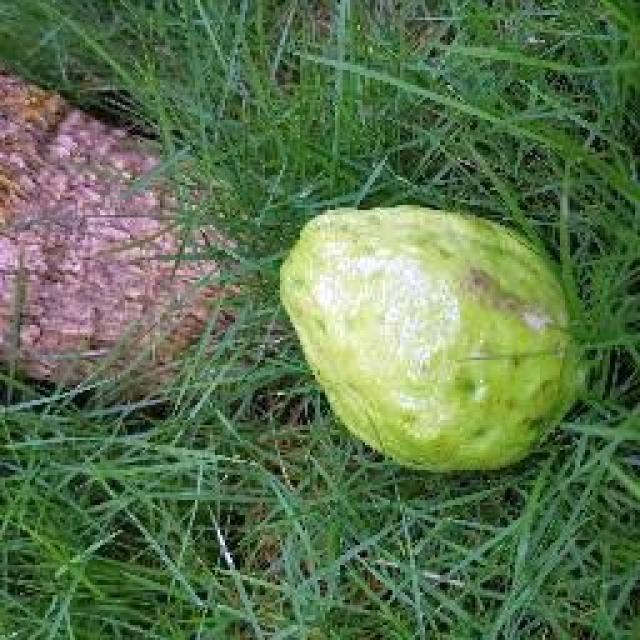Good_Guava: (278, 205, 585, 475)
